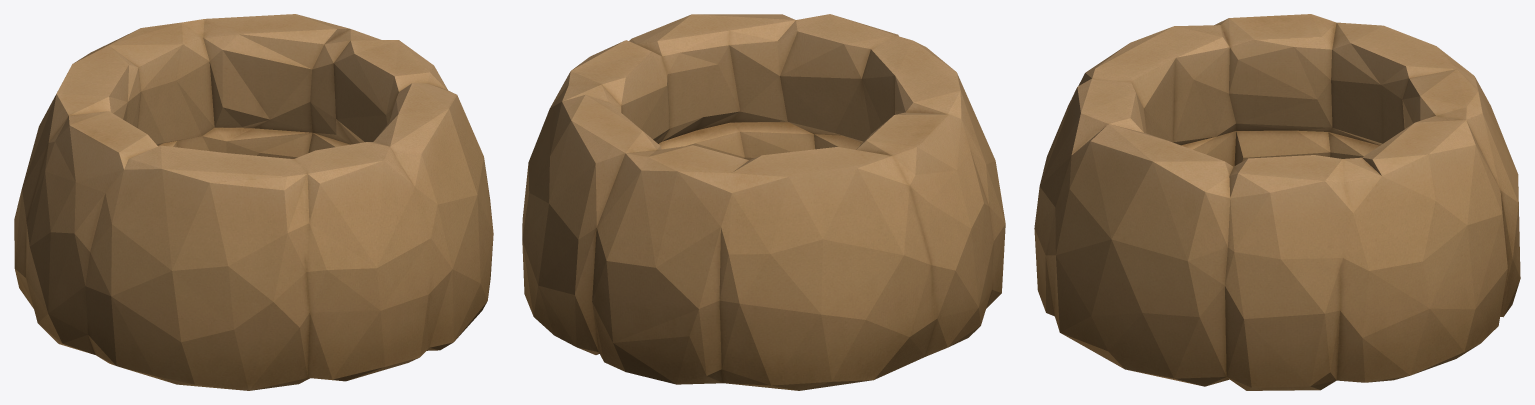
Rendered from prop_wishing_well.glb.
3 views of the same model, side by side, from view 1: azimuth 30°, elevation 25°; view 2: azimuth 150°, elevation 25°; view 3: azimuth 270°, elevation 25° (orthographic).
Visible parts, largest first — view 1: world; view 2: world; view 3: world.
Part boxes in pixels (<box>): world: <box>14,14,493,390</box>; world: <box>522,14,1005,390</box>; world: <box>1034,14,1520,390</box>.
Bounding box in the file's own units: 1 × 0.4524 × 0.9992.
1 material, 1 textured.
